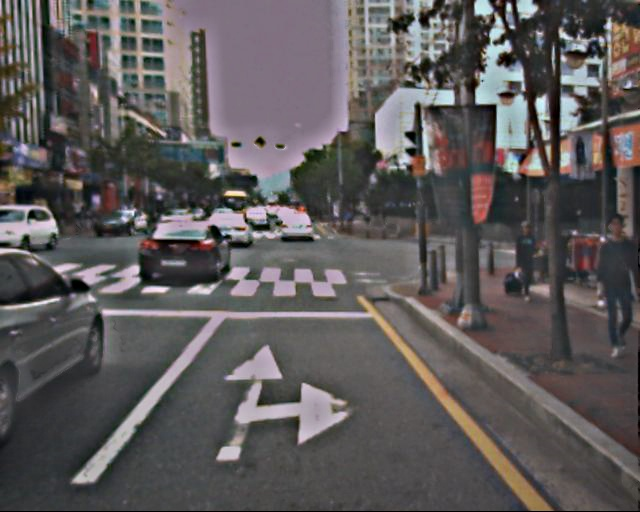person: (581, 211, 640, 359), (509, 221, 543, 303)
